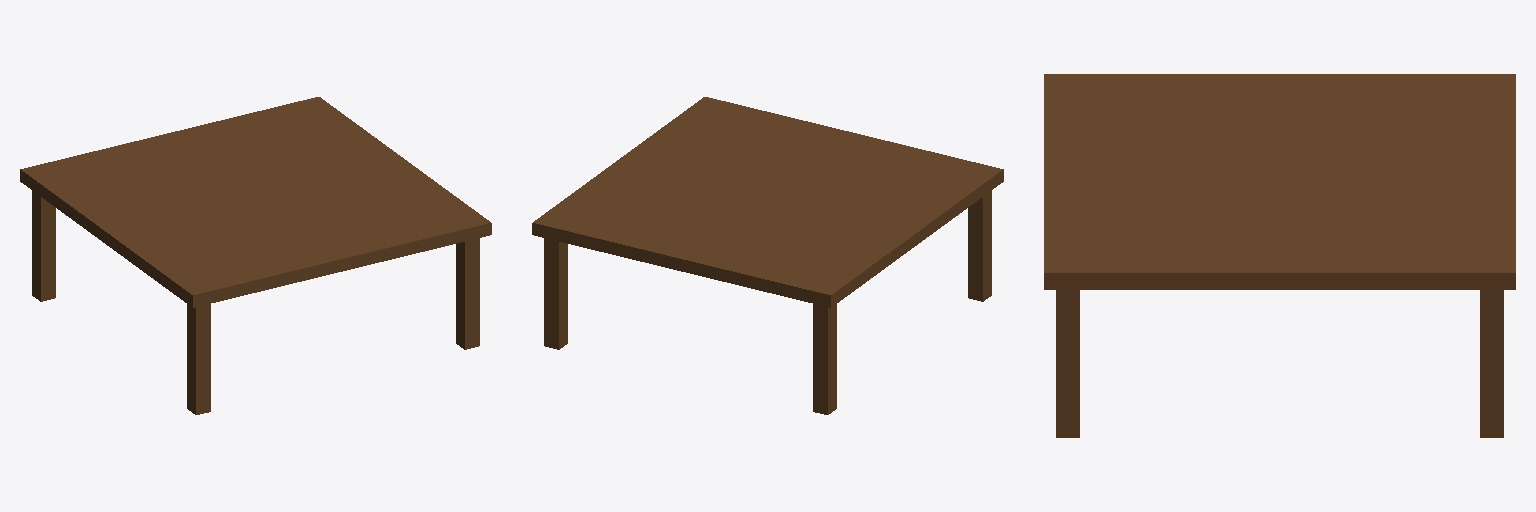
The robot description file, URDF, robot "workbench":
<?xml version="1.0"?>
<!--
  Plain flat box + 4 support legs, same category as ground.urdf/pedestal
  — generic primitive, no vendored content. A static support surface for
  the table/leg parts to rest on. First pass only had the tabletop slab
  (z=0.36 to 0.40) with nothing under it down to the ground — same
  "floating in mid-air" problem one level up. Legs span z=0 (ground) to
  z=0.36 (underside of the surface), at the 4 corners of the footprint,
  inset 0.05m from each edge.

  Widened Y from 0.6 to 1.0m (footprint now 1.0x1.0) to fit the IKEA leg
  parts laid flat in their own row alongside the table without either
  falling off the bench edge or overlapping the table — see
  view_full_scene.py's LEG_Y positions.
-->
<robot name="workbench">
  <link name="workbench_base">
    <visual>
      <geometry>
        <box size="1.0 1.0 0.04"/>
      </geometry>
      <origin xyz="0.75 0 0.38"/>
      <material name="Brown">
        <color rgba="0.45 0.32 0.2 1.0"/>
      </material>
    </visual>
    <collision>
      <geometry>
        <box size="1.0 1.0 0.04"/>
      </geometry>
      <origin xyz="0.75 0 0.38"/>
    </collision>

    <visual>
      <geometry>
        <box size="0.05 0.05 0.36"/>
      </geometry>
      <origin xyz="0.30 -0.45 0.18"/>
      <material name="Brown"/>
    </visual>
    <collision>
      <geometry>
        <box size="0.05 0.05 0.36"/>
      </geometry>
      <origin xyz="0.30 -0.45 0.18"/>
    </collision>

    <visual>
      <geometry>
        <box size="0.05 0.05 0.36"/>
      </geometry>
      <origin xyz="0.30 0.45 0.18"/>
      <material name="Brown"/>
    </visual>
    <collision>
      <geometry>
        <box size="0.05 0.05 0.36"/>
      </geometry>
      <origin xyz="0.30 0.45 0.18"/>
    </collision>

    <visual>
      <geometry>
        <box size="0.05 0.05 0.36"/>
      </geometry>
      <origin xyz="1.20 -0.45 0.18"/>
      <material name="Brown"/>
    </visual>
    <collision>
      <geometry>
        <box size="0.05 0.05 0.36"/>
      </geometry>
      <origin xyz="1.20 -0.45 0.18"/>
    </collision>

    <visual>
      <geometry>
        <box size="0.05 0.05 0.36"/>
      </geometry>
      <origin xyz="1.20 0.45 0.18"/>
      <material name="Brown"/>
    </visual>
    <collision>
      <geometry>
        <box size="0.05 0.05 0.36"/>
      </geometry>
      <origin xyz="1.20 0.45 0.18"/>
    </collision>
  </link>
</robot>

--- What the picture shows (computed from the rendered views, not written in the file) ---
The picture shows the robot from 3 angles, left to right: view 1: azimuth 30°, elevation 25°; view 2: azimuth 150°, elevation 25°; view 3: azimuth 270°, elevation 25°; orthographic projection.
Model workbench with 1 links and 0 joints (none), rooted at workbench_base, posed every joint at zero.
Visible links, largest first — view 1: workbench_base; view 2: workbench_base; view 3: workbench_base.
Boxes of the visible links, <box> form: workbench_base: <box>20,97,491,414</box>; workbench_base: <box>532,97,1003,414</box>; workbench_base: <box>1044,74,1515,437</box>.
Size in the robot's own frame: 1 by 1 by 0.4 metres.
Geometry: primitives only (box / cylinder / sphere), no mesh files.
